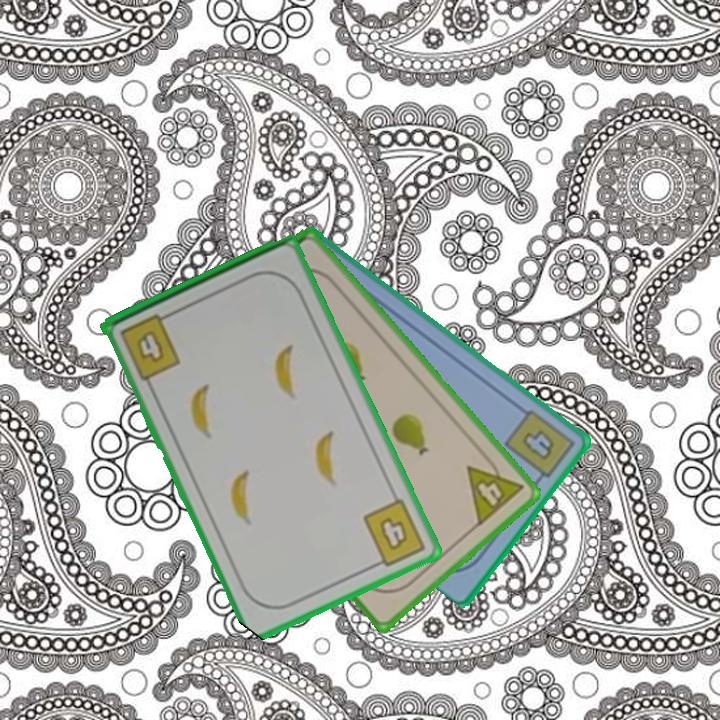4b: (501, 405, 578, 488), (359, 495, 429, 572), (116, 309, 184, 383)
4p: (463, 449, 526, 529)
